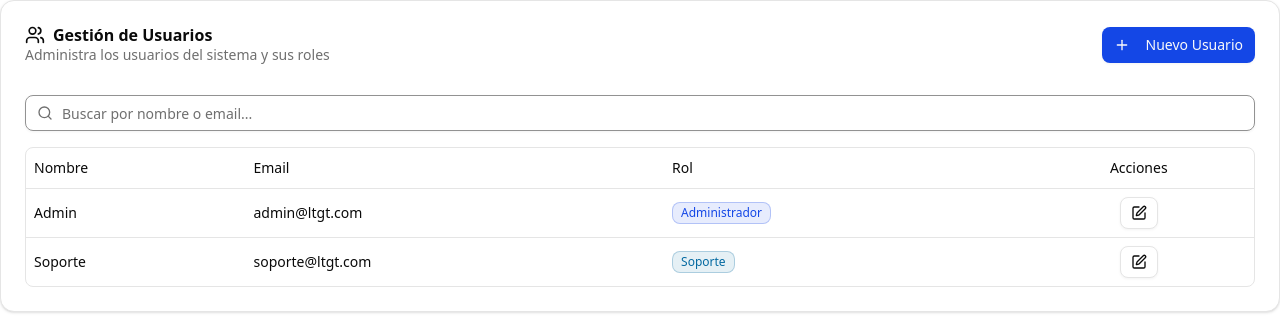
UserList › shows each user with its role and filters by name or email
Expected: the 2nd text "Soporte" is shown, [672,250,735,272]
Type "admin@" into the field with placeholder "Buscar por nombre o email..." at (640, 113), box [25,95,1255,131]
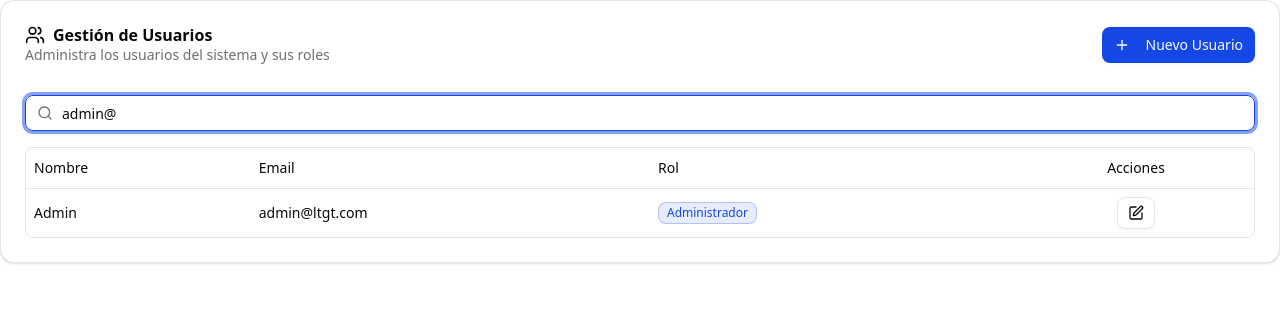
Expected: the text "admin@ltgt.com" is shown, [251,188,650,236]
Now the text "soporte@ltgt.com" is gone
